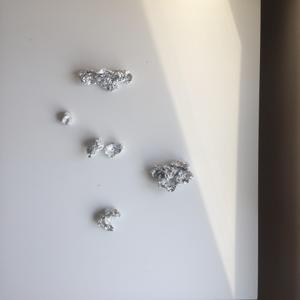metal: (65, 49, 147, 111), (145, 157, 206, 194), (95, 202, 126, 237), (103, 133, 127, 167), (82, 134, 111, 158), (56, 104, 80, 131)
